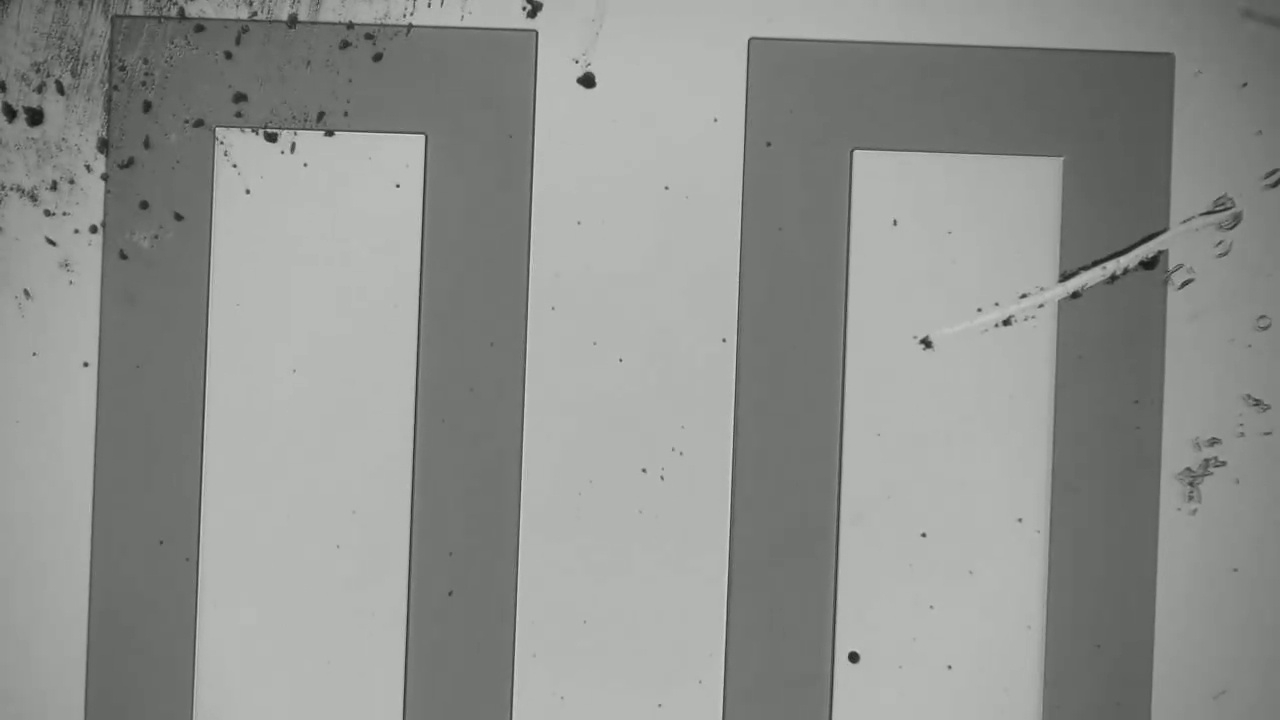Short_circuit: (1034, 192, 1208, 326)
